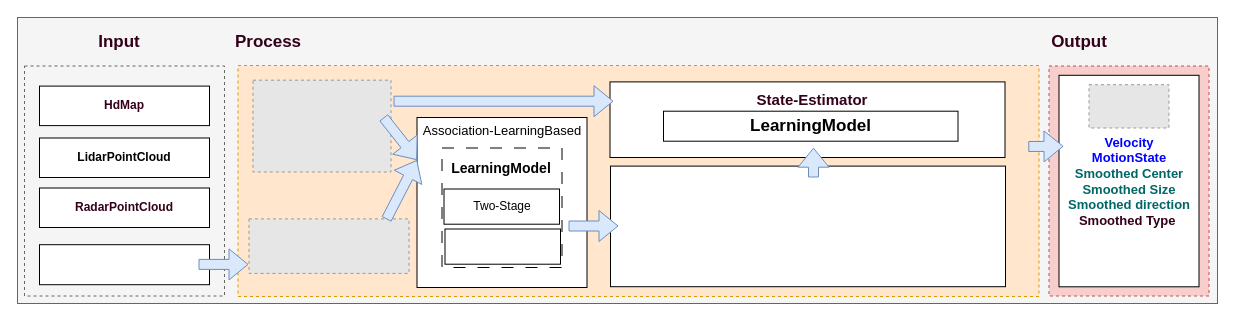
Some shapes in this 1235 by 321 pixel diagram are drawn without their labels. Grey dashed boxes stand in for pictures. Here are the shapes that lost their labels. From the top down, the centre of each, then its label:
(502,246): One-Stage
(808,226): Motion-Measure
(124,264): Foreground Obstacle (Center/Size/Direction/...)
